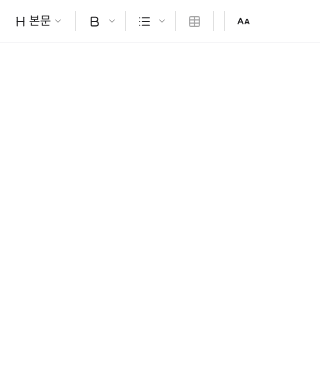
TipTapMenuBar Confluence식 메뉴 › T 메뉴에 단축키 칩이 표시된다
Click the button with aria-label "헤딩" at (39, 21), box x1=8 y1=6 x2=69 y2=36
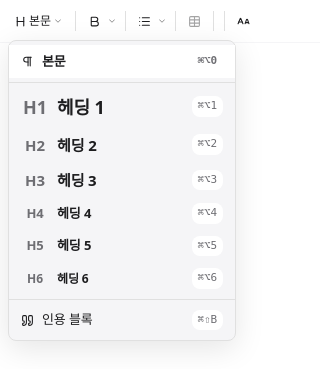
Expected: the text "⌘⌥0" is shown, x1=192 y1=51 x2=223 y2=72
Expected: the text "⌘⌥1" is shown, x1=192 y1=96 x2=223 y2=117
